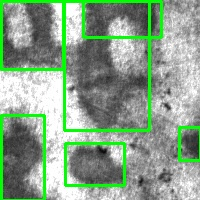patches: (64, 1, 149, 130), (1, 1, 63, 69), (1, 115, 44, 200), (83, 1, 161, 37), (65, 143, 124, 185), (179, 127, 200, 160)
